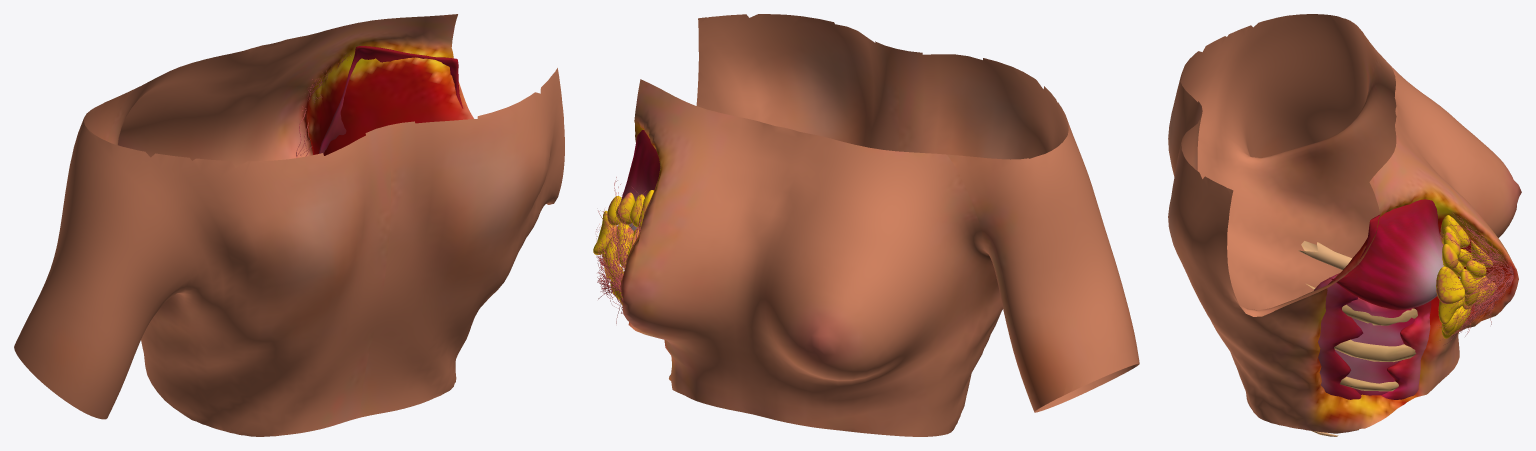
File: mama_caso_002.glb
3 renders of one model, left to right at view 1: azimuth 30°, elevation 25°; view 2: azimuth 150°, elevation 25°; view 3: azimuth 270°, elevation 25°, orthographic. The views are drawn at different scales.
Visible parts, largest first — view 1: Body_Julie2_0.001, Muscles_Extract1_0.001; view 2: Body_Julie2_0.001, Glands_Extract4_1_0.001, Ducts_Ducts5_0.001, Muscles_Extract1_0.001; view 3: Body_Julie2_0.001, Muscles_Extract1_0.001, Glands_Extract4_1_0.001, Ducts_Ducts5_0.001.
Part boxes in pixels (x1=…): Body_Julie2_0.001: x1=14, y1=14, x2=564, y2=436; Muscles_Extract1_0.001: x1=319, y1=46, x2=463, y2=153; Body_Julie2_0.001: x1=620, y1=14, x2=1139, y2=436; Glands_Extract4_1_0.001: x1=593, y1=190, x2=653, y2=305; Ducts_Ducts5_0.001: x1=596, y1=177, x2=646, y2=323; Muscles_Extract1_0.001: x1=621, y1=130, x2=660, y2=230; Body_Julie2_0.001: x1=1168, y1=14, x2=1521, y2=433; Muscles_Extract1_0.001: x1=1298, y1=199, x2=1443, y2=436; Glands_Extract4_1_0.001: x1=1436, y1=215, x2=1496, y2=338; Ducts_Ducts5_0.001: x1=1436, y1=212, x2=1514, y2=344.
Bounding box in the file's own units: 0.4298 × 0.2828 × 0.3122.
Materials: 5 (3 with a texture image).
